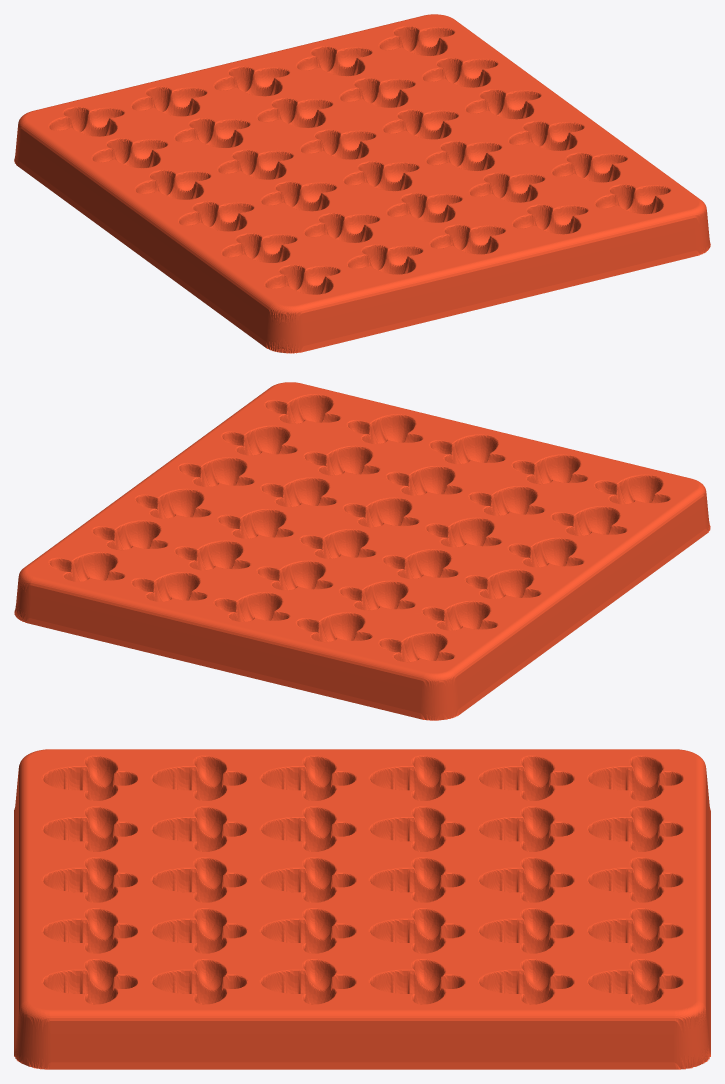
Rendered from mold.glb.
3 renders of one model, top to bottom at view 1: azimuth 30°, elevation 25°; view 2: azimuth 150°, elevation 25°; view 3: azimuth 270°, elevation 25°, orthographic. The views are drawn at different scales.
Parts seen in each view (by area): view 1: geometry_0; view 2: geometry_0; view 3: geometry_0.
Part boxes in pixels (x1,y1,x2,y2): geometry_0: [14, 14, 710, 353]; geometry_0: [14, 382, 710, 720]; geometry_0: [14, 749, 710, 1069].
Size of the model in its own units: 0.1578 by 0.0145 by 0.1707.
